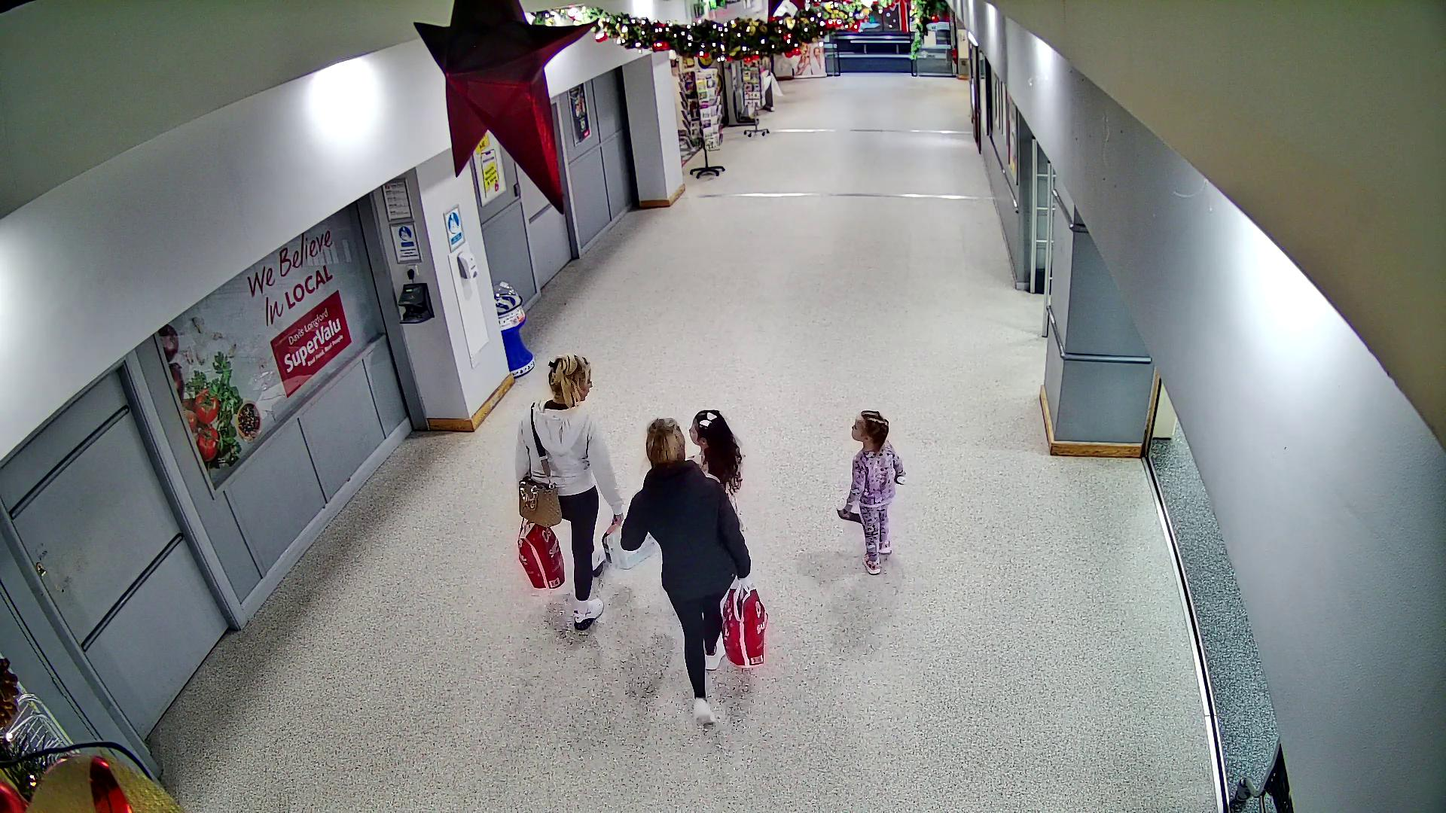backpack-or-handbag: (517, 521, 565, 590), (519, 477, 563, 529)
filled-shopping-bags: (716, 584, 770, 668), (602, 510, 656, 570)
person: (621, 419, 751, 722), (516, 353, 624, 631)
person-with-backpack-handbag-and-shopping-bag-s-: (516, 352, 656, 632)
person-with-filled-shopping-bag-s-: (622, 419, 770, 724)
